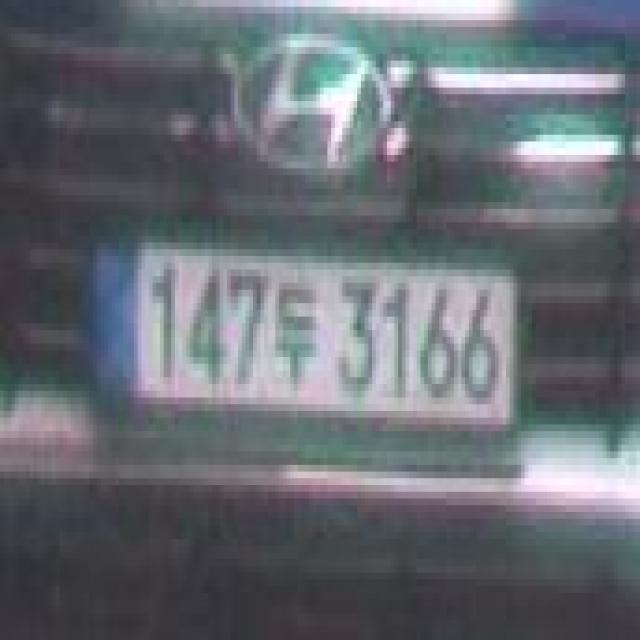illegal_plate: (71, 200, 526, 469)
